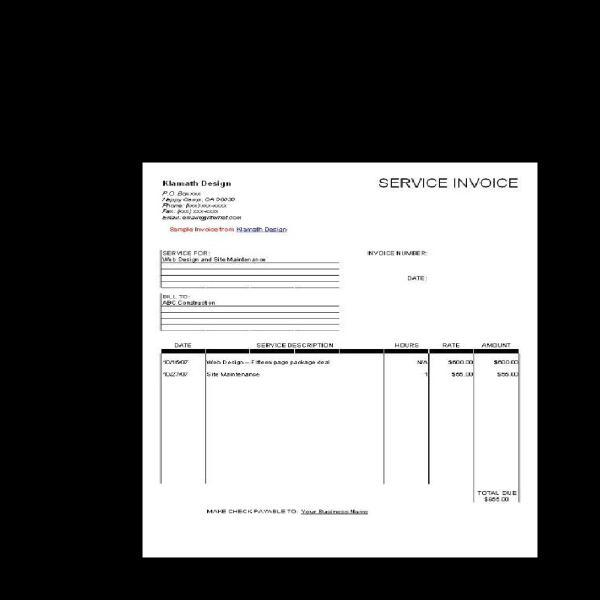test: (143, 163, 536, 556)
